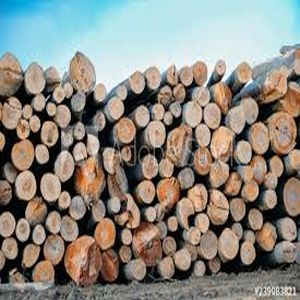log: (62, 234, 103, 286), (266, 111, 298, 158), (131, 222, 164, 267), (165, 122, 195, 170), (75, 157, 106, 203), (66, 50, 96, 93), (205, 187, 230, 229), (1, 51, 24, 96), (114, 193, 140, 230), (209, 126, 235, 162), (155, 177, 181, 212), (261, 69, 290, 100), (22, 197, 51, 227), (281, 175, 300, 220), (247, 122, 271, 156), (217, 227, 240, 262), (24, 59, 45, 97), (39, 172, 63, 205), (94, 217, 117, 251), (10, 139, 35, 170), (1, 97, 23, 132), (108, 164, 129, 200), (52, 149, 74, 183), (42, 233, 65, 265), (15, 169, 36, 204), (174, 197, 195, 231), (100, 145, 122, 177), (193, 146, 214, 179), (185, 181, 207, 212), (209, 159, 231, 190), (211, 81, 232, 113), (100, 249, 119, 284), (225, 107, 246, 138), (257, 222, 278, 252), (203, 101, 224, 131), (138, 152, 160, 179), (233, 139, 254, 167), (60, 215, 79, 245), (147, 120, 166, 150), (31, 262, 55, 285), (182, 101, 203, 126), (201, 230, 219, 259), (20, 243, 40, 269), (88, 197, 108, 223), (116, 118, 136, 144), (192, 123, 212, 149), (276, 241, 297, 265), (241, 179, 262, 203), (224, 171, 242, 199), (240, 100, 261, 124), (1, 236, 21, 261), (69, 196, 88, 222), (228, 197, 247, 223), (42, 121, 60, 148), (158, 254, 176, 281), (136, 181, 157, 204), (176, 167, 197, 190), (133, 103, 152, 128), (278, 216, 297, 241), (235, 61, 254, 86), (238, 240, 256, 266), (145, 65, 162, 92), (107, 97, 125, 122), (174, 247, 192, 272), (194, 59, 210, 87), (1, 211, 17, 238), (129, 69, 146, 94), (193, 84, 212, 106), (249, 155, 265, 181), (46, 211, 63, 235), (247, 207, 264, 231), (157, 158, 175, 180), (16, 216, 30, 244), (194, 213, 211, 236), (179, 65, 195, 89), (171, 84, 190, 104), (70, 92, 88, 113), (130, 260, 147, 282), (55, 103, 71, 126), (72, 141, 88, 164), (261, 189, 279, 209), (31, 224, 48, 245), (92, 109, 108, 131), (267, 155, 283, 177), (60, 126, 74, 150), (86, 132, 100, 156), (286, 147, 300, 171), (17, 119, 32, 141), (163, 236, 178, 258), (1, 180, 13, 207), (235, 163, 253, 181), (93, 83, 108, 104), (3, 163, 18, 184), (35, 145, 51, 164), (119, 228, 135, 247), (207, 256, 223, 275), (186, 227, 202, 246), (263, 172, 279, 191), (51, 85, 66, 105), (58, 191, 72, 212), (118, 245, 133, 264), (151, 102, 166, 121), (157, 86, 172, 105), (164, 66, 179, 85), (32, 92, 46, 112), (73, 120, 86, 141), (62, 81, 75, 100), (120, 145, 133, 164), (167, 215, 180, 234), (230, 221, 243, 240), (168, 101, 183, 117), (215, 59, 228, 77), (192, 260, 206, 276), (106, 195, 119, 212), (143, 207, 156, 224), (21, 105, 35, 120), (30, 115, 41, 134), (153, 205, 166, 221), (162, 109, 173, 127), (243, 230, 256, 244), (116, 85, 128, 100)
